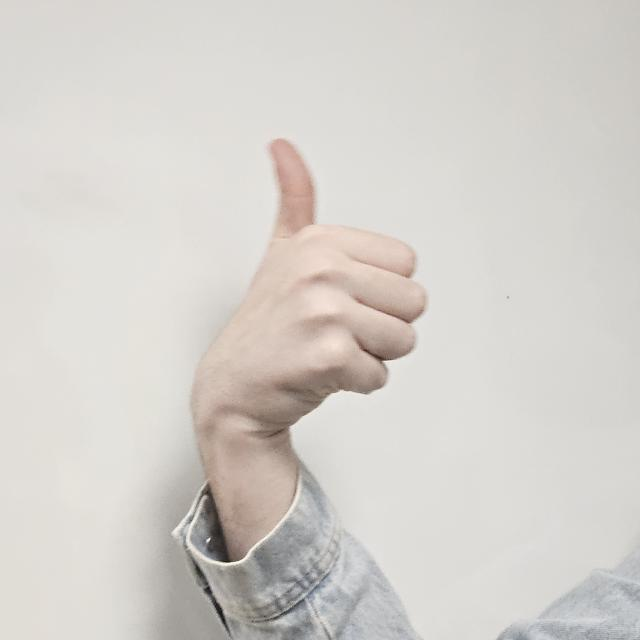Start: (243, 136, 434, 424)
